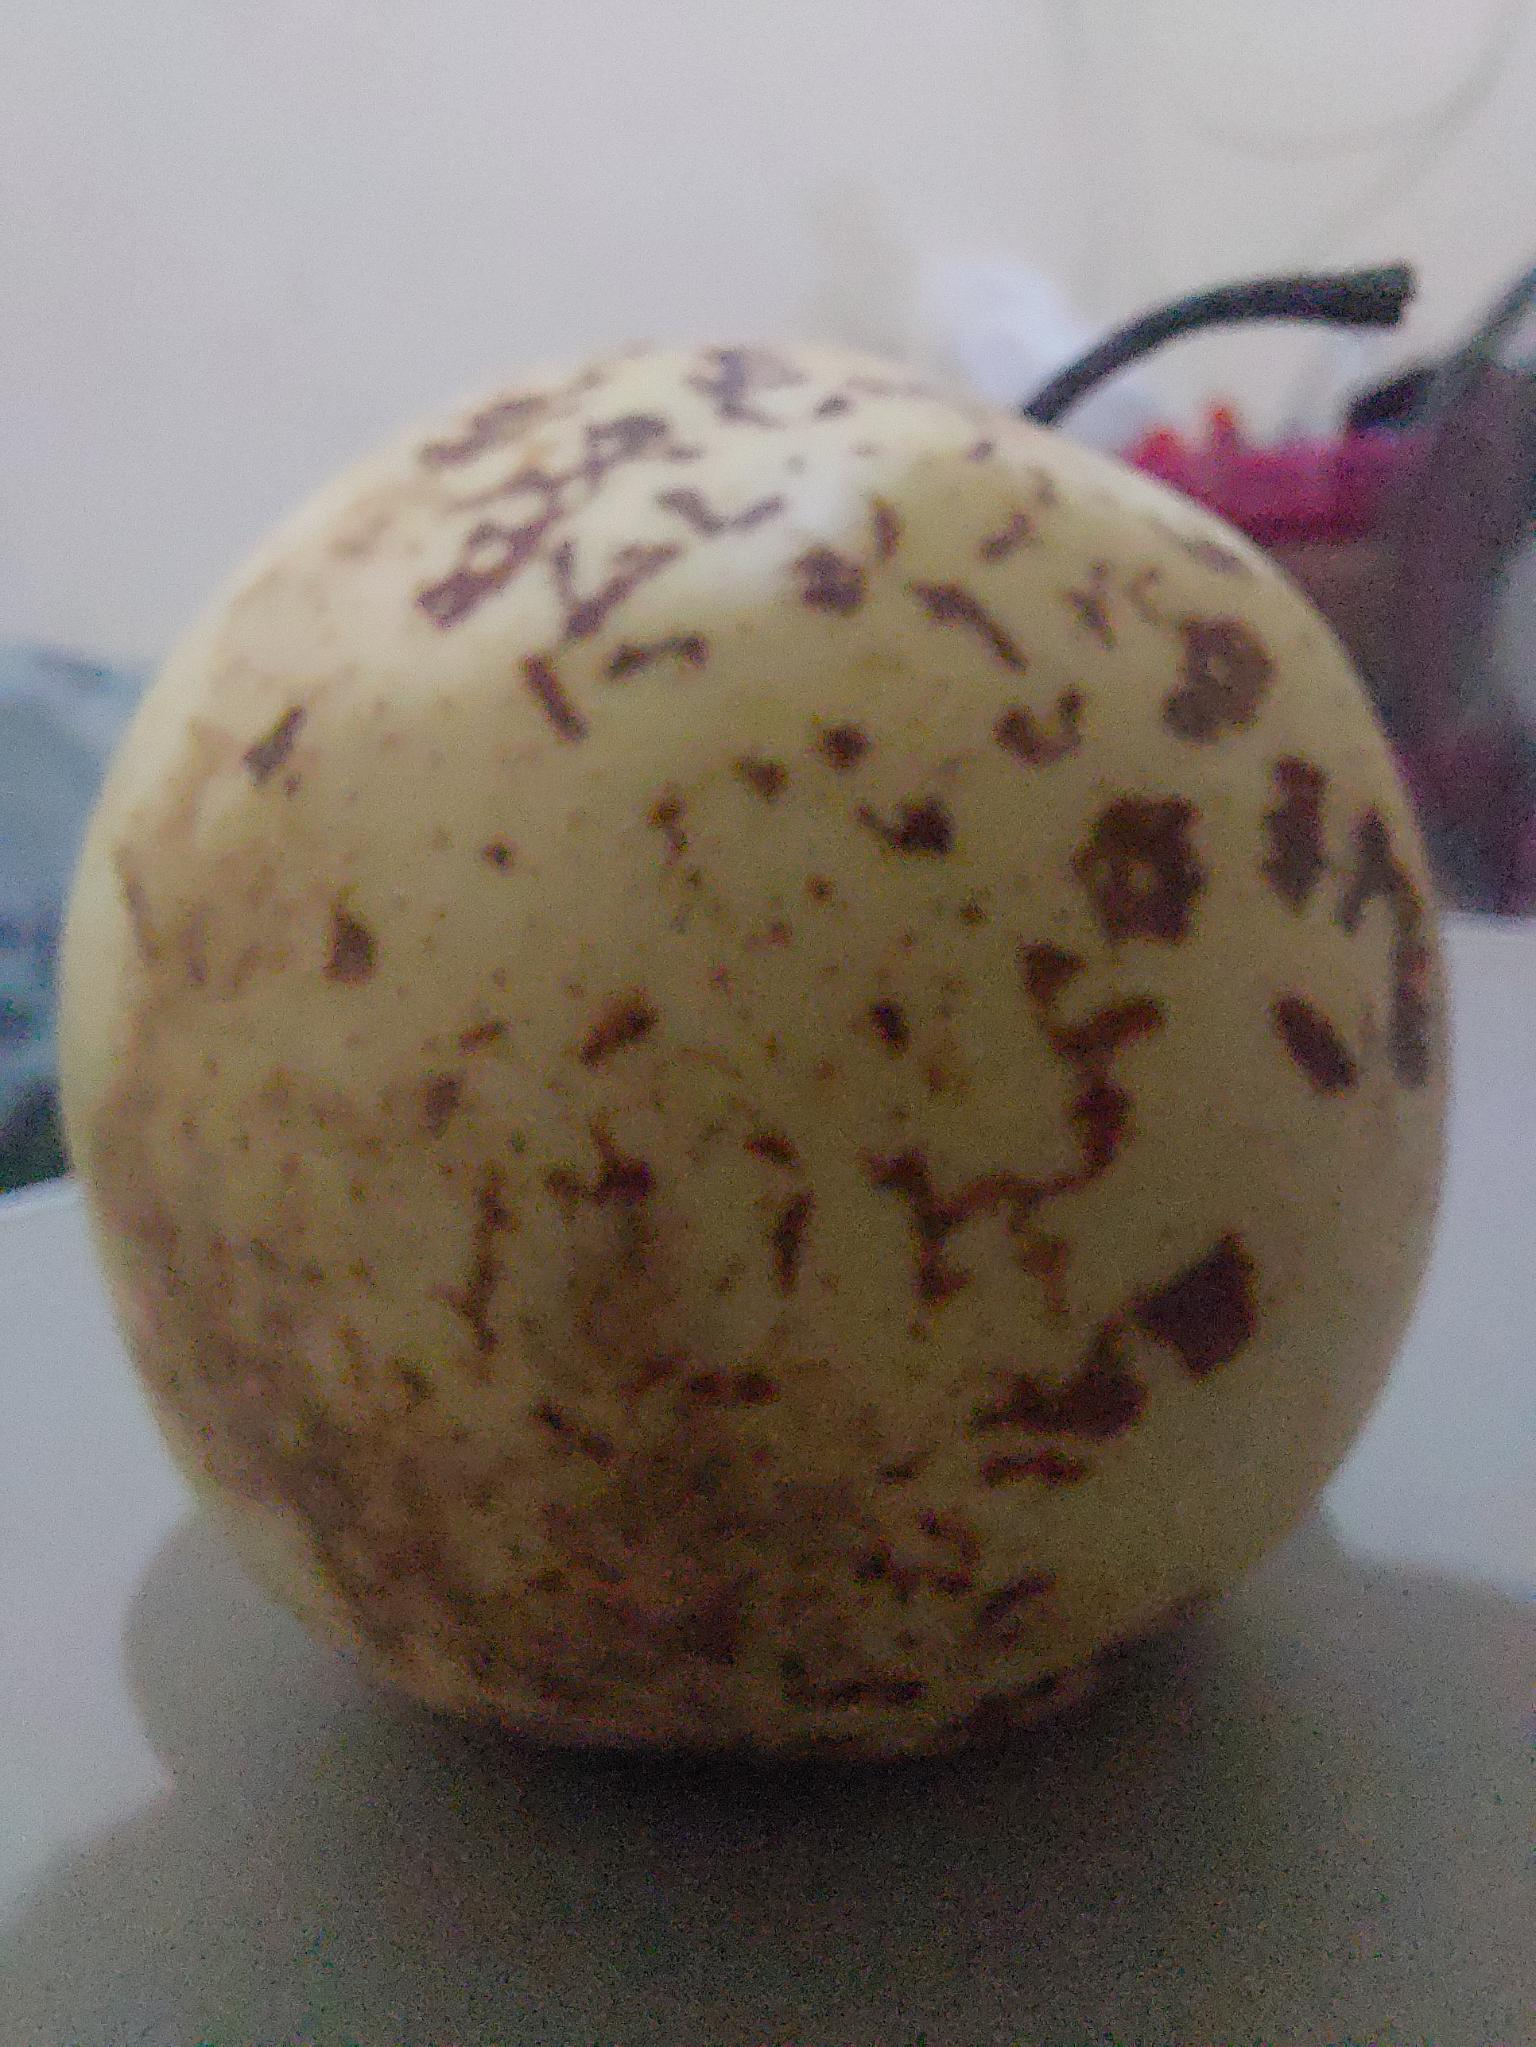Bad Pear: (79, 247, 1520, 1797)
